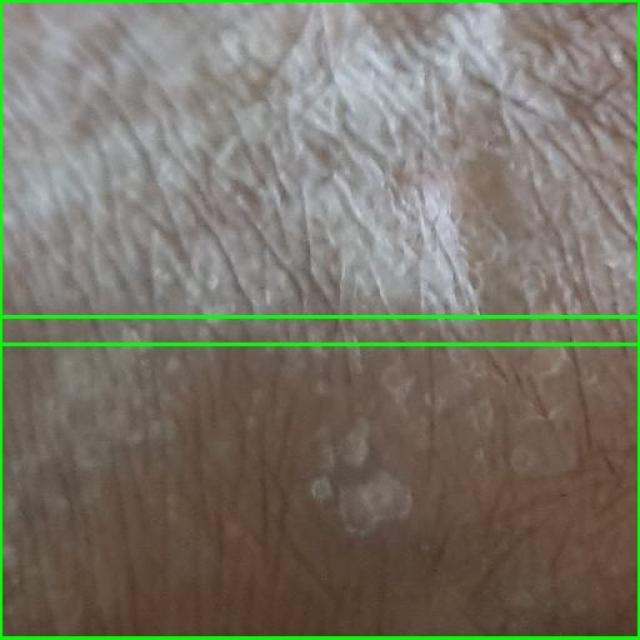Eczema: (0, 0, 639, 344), (0, 316, 639, 639)
